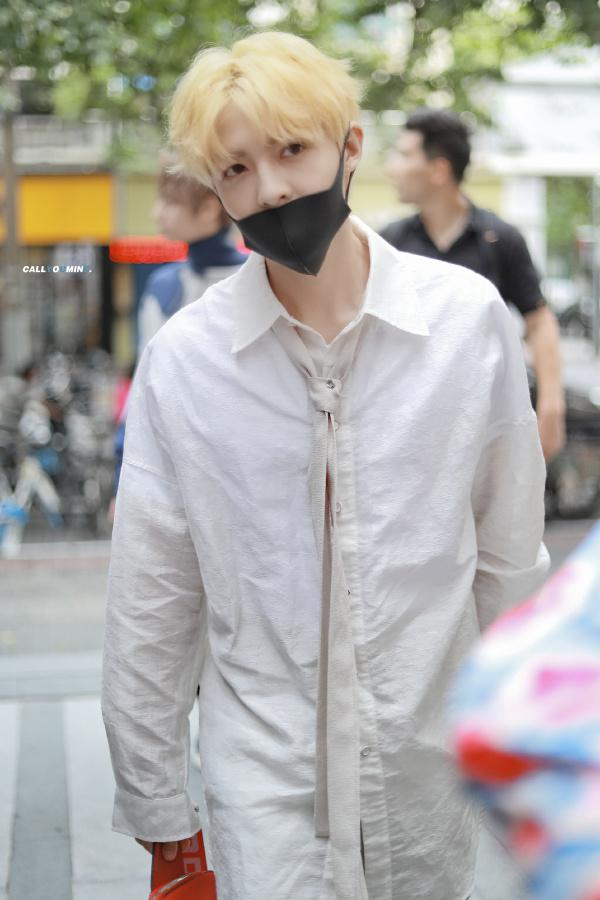NONE: (392, 143, 435, 205), (153, 186, 190, 241)
WRONG: (212, 137, 347, 268)
